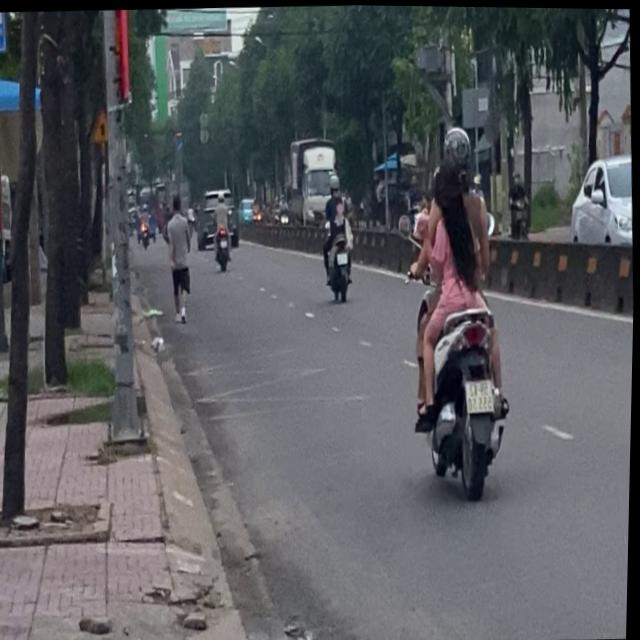helmet: (442, 122, 474, 177)
licenseplate: (401, 115, 521, 498)
motorcyclist: (431, 160, 464, 221)
nohelmet: (466, 377, 494, 409)
